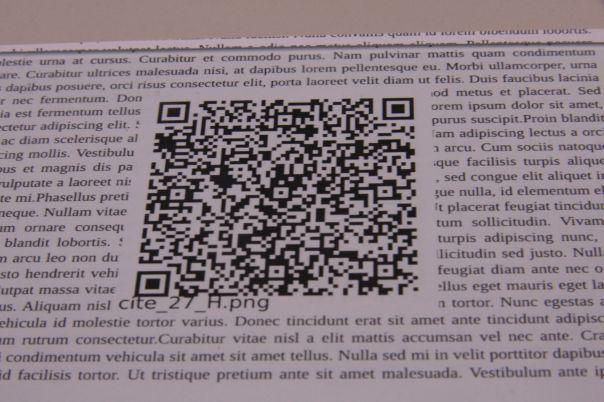Finder pattern: (131, 268, 174, 301), (378, 94, 417, 123), (152, 100, 195, 125)
